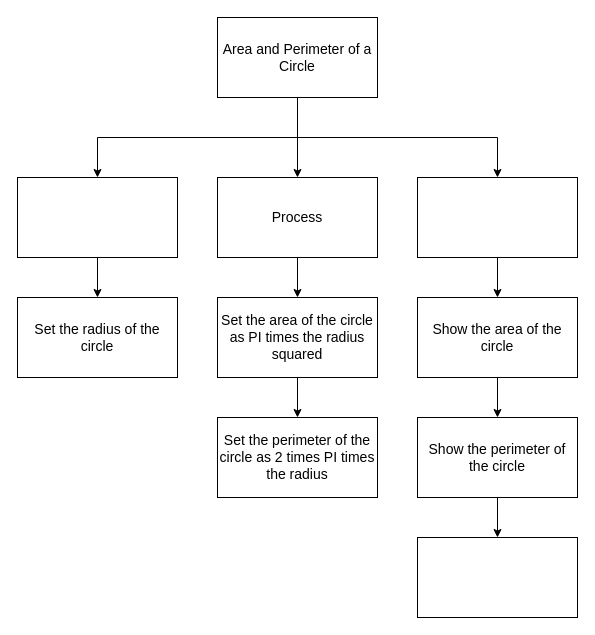
Some shapes in this 595 by 635 pixel diagram are drawn without their labels. The centre of each missing label's shape, as x and y in pixels:
"Input" goes at point (97, 217).
"Output" goes at point (497, 217).
"Show the program as done" goes at point (497, 577).
